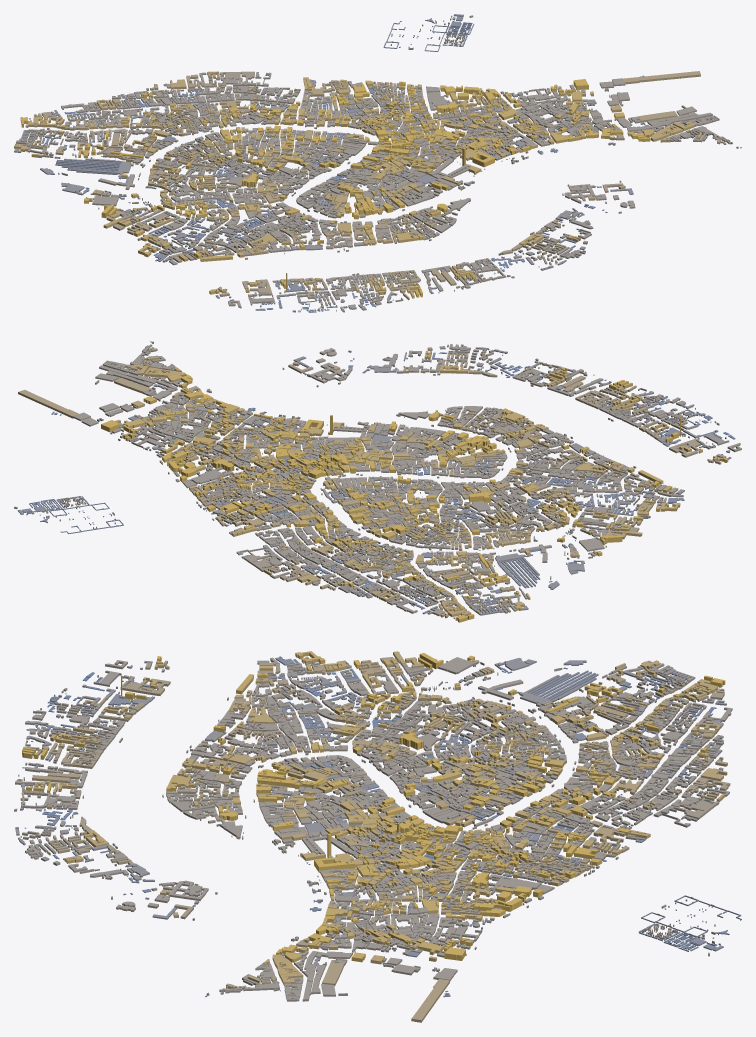
File: buildings.glb
3 renders of one model, top to bottom at view 1: azimuth 30°, elevation 25°; view 2: azimuth 150°, elevation 25°; view 3: azimuth 270°, elevation 25°, orthographic. The views are drawn at different scales.
Parts seen in each view (by area): view 1: buildings; view 2: buildings; view 3: buildings.
Part boxes in pixels (x1,y1,x2,y2): buildings: (14,14,741,312); buildings: (14,341,741,622); buildings: (14,651,741,1022).
Size of the model in its own units: 3339 by 102 by 2786.
